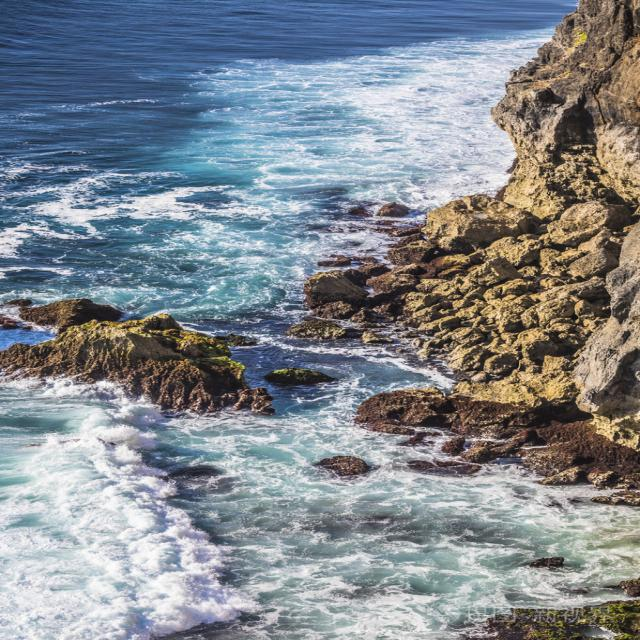reef: (286, 192, 622, 422), (12, 290, 316, 416)
